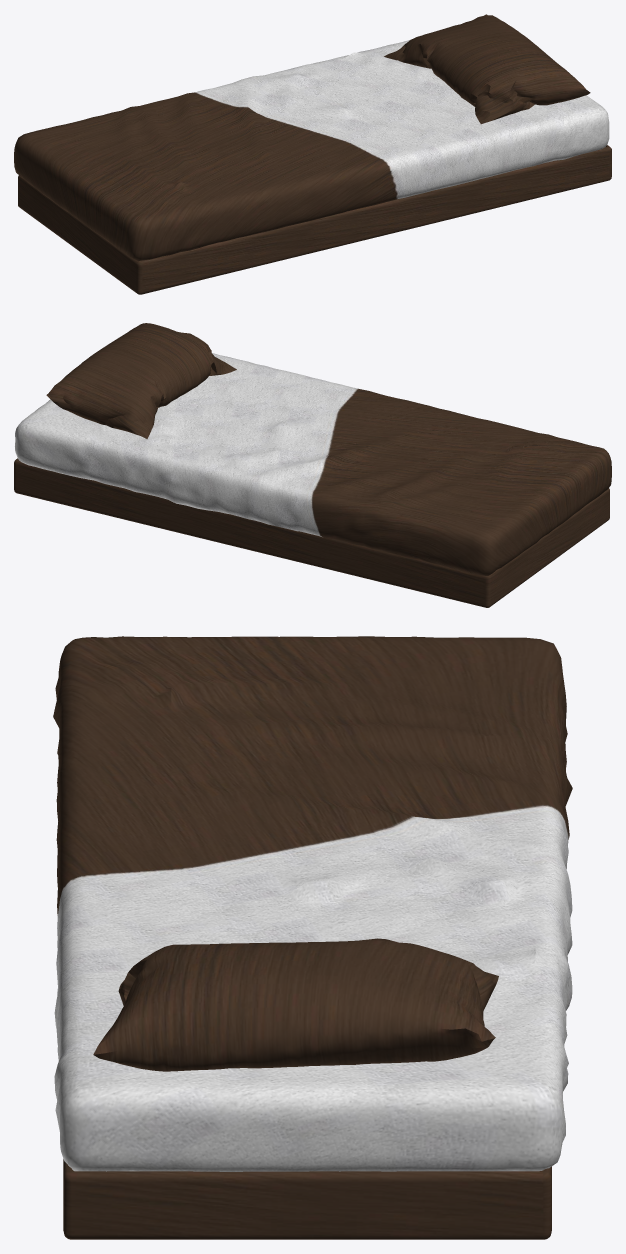
The model's file is bed_white.gltf.
3 views of the same model, one above another, from view 1: azimuth 30°, elevation 25°; view 2: azimuth 150°, elevation 25°; view 3: azimuth 270°, elevation 25° (orthographic). The views are drawn at different scales.
Bounding box in the file's own units: 52 × 11.61 × 24.43.
